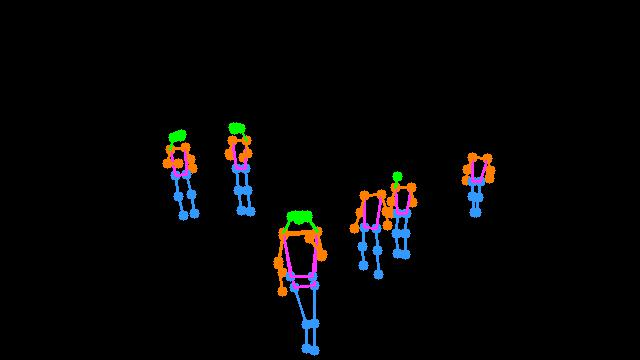normal: (156, 108, 265, 236), (336, 153, 425, 287)
